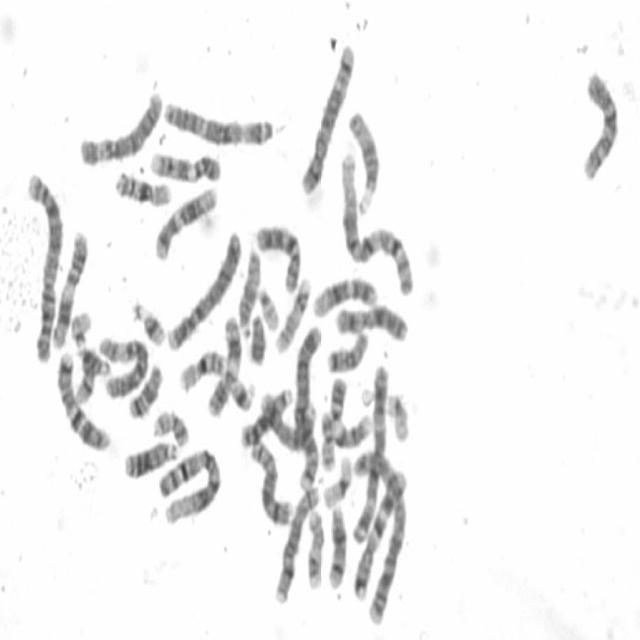A1: (335, 145, 416, 298), (154, 438, 222, 527)
A2: (351, 452, 409, 622), (22, 162, 65, 364)
A3: (349, 357, 390, 546), (158, 90, 276, 148)
B4: (164, 221, 244, 353), (290, 316, 324, 450)
B5: (296, 34, 358, 196), (260, 392, 318, 493)
C10: (577, 61, 621, 184), (250, 214, 304, 294)
C11: (48, 222, 90, 350), (202, 306, 242, 419)
C12: (150, 177, 219, 262), (308, 268, 380, 319)
C6: (74, 82, 164, 168), (96, 326, 150, 400)
C7: (350, 458, 410, 608), (52, 343, 113, 452)
C8: (269, 476, 322, 607), (246, 430, 294, 528)
C9: (325, 368, 373, 450), (146, 141, 223, 184)
D13: (236, 379, 296, 450), (120, 431, 180, 481)
D14: (72, 346, 112, 416), (322, 495, 348, 591)
D15: (344, 101, 382, 214), (233, 239, 262, 339)
E16: (110, 162, 173, 208), (175, 342, 227, 394)
E17: (270, 268, 313, 354), (302, 501, 327, 591)
E18: (124, 354, 165, 420), (322, 322, 370, 374)
F19: (318, 446, 354, 510), (381, 382, 412, 442)
F20: (148, 400, 190, 448), (316, 403, 338, 473)
G21: (128, 292, 168, 348), (226, 368, 256, 414)
G22: (252, 278, 280, 332), (67, 303, 93, 349)
X: (331, 296, 411, 344)
Y: (244, 305, 268, 366)
